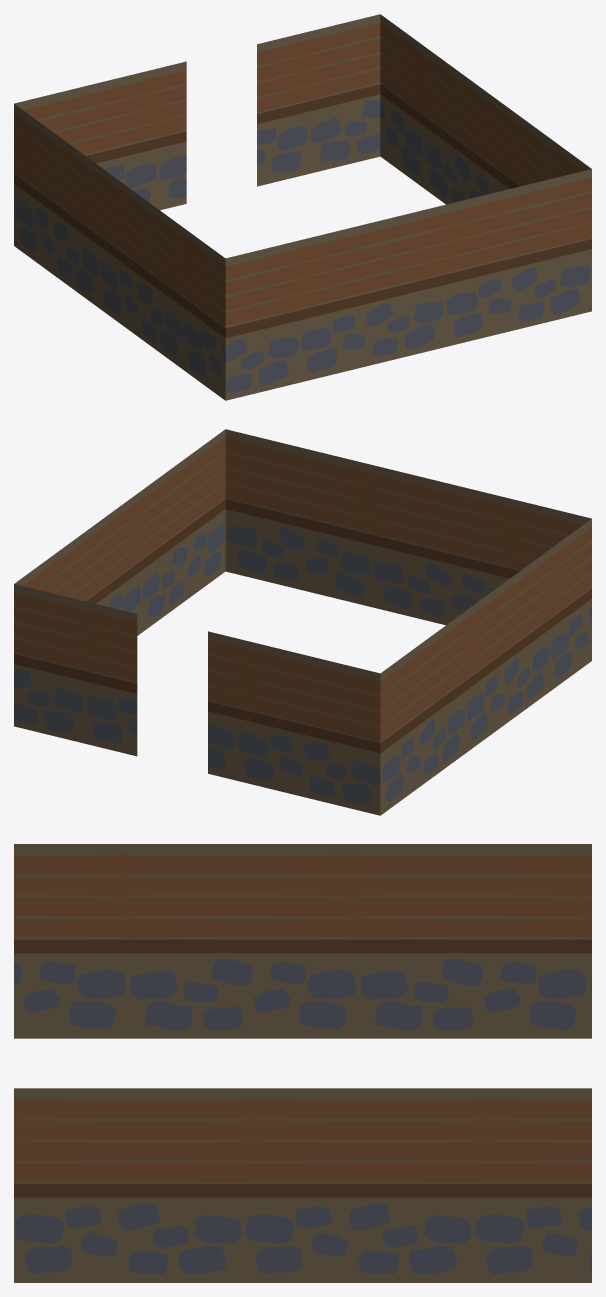
Rendered from SM_Wall_Exterior_01.fbx.
The picture shows the model from 3 angles, top to bottom: view 1: azimuth 30°, elevation 25°; view 2: azimuth 150°, elevation 25°; view 3: azimuth 270°, elevation 25°; orthographic projection. The views are drawn at different scales.
Parts seen in each view (by area): view 1: SM_Wall_Exterior_01; view 2: SM_Wall_Exterior_01; view 3: SM_Wall_Exterior_01.
Part boxes in pixels (box(x1,y1,x2,y2)): SM_Wall_Exterior_01: box(14, 14, 591, 400); SM_Wall_Exterior_01: box(14, 429, 591, 815); SM_Wall_Exterior_01: box(14, 844, 591, 1282).
Bounding box in the file's own units: 970 × 360 × 970.
